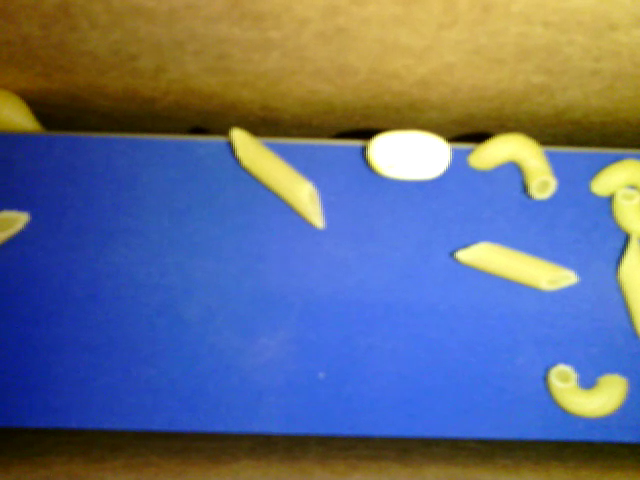elbow: (467, 132, 558, 200), (547, 362, 629, 417), (591, 157, 639, 195), (613, 186, 639, 236)
penne: (231, 126, 324, 230), (454, 240, 579, 292), (615, 234, 639, 337), (1, 210, 30, 244)
